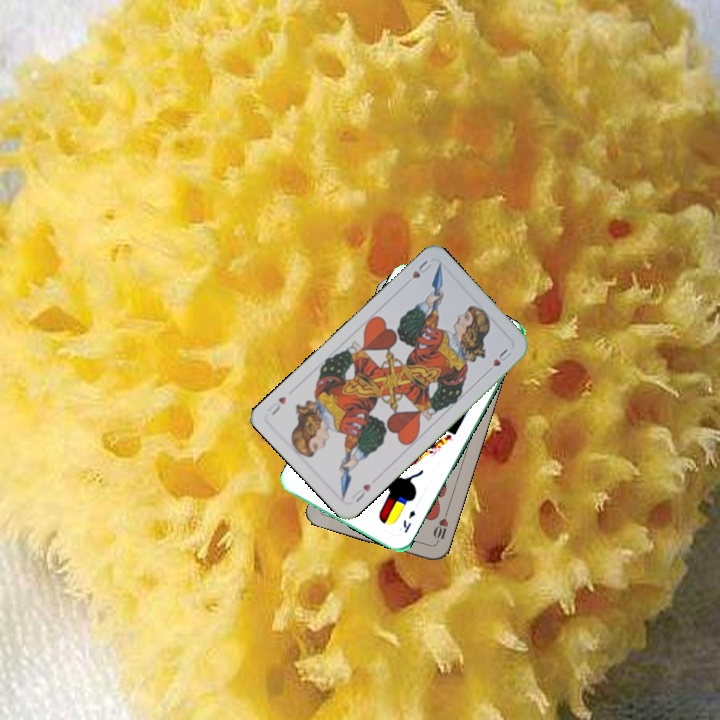EK: (399, 506, 418, 535)
H10: (429, 507, 451, 547)
HU: (348, 480, 374, 505), (408, 256, 434, 281)
